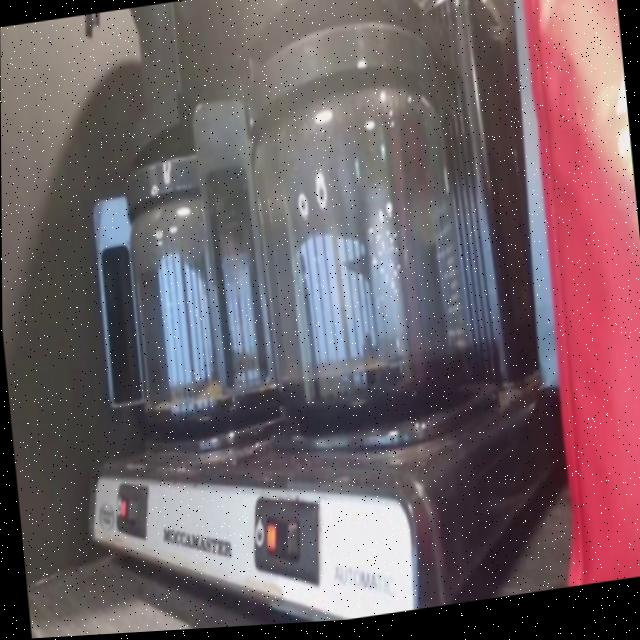coffee: (230, 19, 481, 446), (112, 120, 290, 454)
